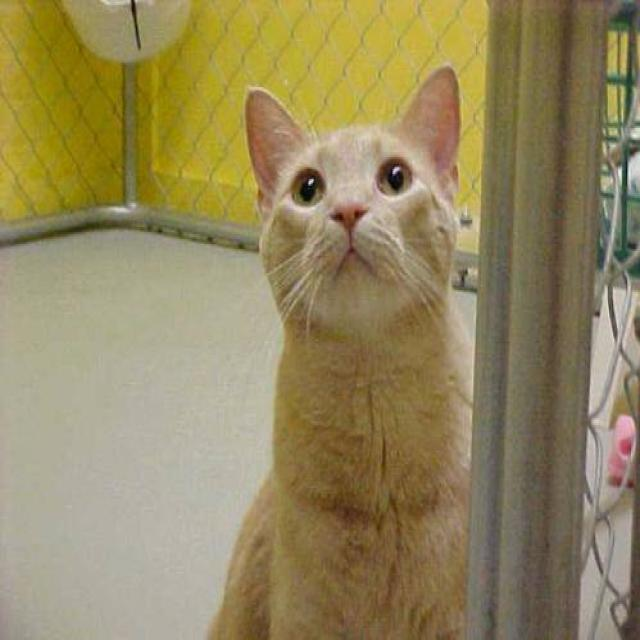cat: (202, 61, 474, 638)
